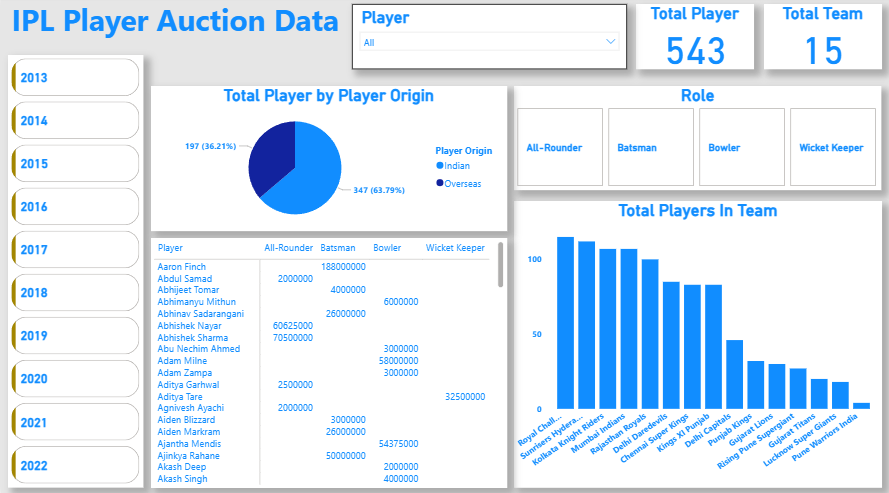

The dashboard page shown, as its layout file describes it:
{"tool":"powerbi","page":{"name":"Page 1","canvas":[1280,720],"ordinal":0},"visuals":[{"type":"textbox","box":[10.1,0,507.3,85.7],"z":0},{"type":"card","title":"Total Player","fields":{"Values":["Count(IPLPlayerAuctionData.Player)"]},"box":[913.8,11.8,169.7,94.1],"z":1000},{"type":"card","title":"Total Team","fields":{"Values":["Count(IPLPlayerAuctionData.Team)"]},"box":[1098.6,11.8,169.7,94.1],"z":2000},{"type":"advancedSlicerVisual","fields":{"Values":["IPLPlayerAuctionData.Role"]},"box":[739.1,129.3,529.1,149.5],"z":3000},{"type":"slicer","fields":{"Values":["IPLPlayerAuctionData.Player"]},"box":[505.6,11.8,396.4,94.1],"z":4000},{"type":"advancedSlicerVisual","fields":{"Values":["IPLPlayerAuctionData.Year"]},"box":[10.1,85.7,194.9,623.2],"z":5000},{"type":"clusteredColumnChart","title":"Total Players In Team","fields":{"Category":["IPLPlayerAuctionData.Team"],"Y":["CountNonNull(IPLPlayerAuctionData.Player)"]},"box":[738.7,295.2,529.9,413.3],"z":6000},{"type":"pieChart","title":"Total Player by Player Origin","fields":{"Category":["IPLPlayerAuctionData.Player Origin"],"Y":["Count(IPLPlayerAuctionData.Player)"]},"box":[216,129.6,512.6,208.8],"z":7000},{"type":"pivotTable","fields":{"Values":["Sum(IPLPlayerAuctionData.Amount)"],"Rows":["IPLPlayerAuctionData.Player"],"Columns":["IPLPlayerAuctionData.Role"]},"box":[216,348.5,512.6,360],"z":8000}]}

Visuals, with their boxes in screenshot pixels (x1, y1, x2, y2), scaled from the page's 1280x720 canvas onto the 889x493 screenshot:
textbox: [7,0,359,59]
"Total Player" card: [635,8,753,73]
"Total Team" card: [763,8,881,73]
advancedSlicerVisual - IPLPlayerAuctionData.Role: [513,89,881,191]
slicer - IPLPlayerAuctionData.Player: [351,8,626,73]
advancedSlicerVisual - IPLPlayerAuctionData.Year: [7,59,142,485]
"Total Players In Team" clusteredColumnChart: [513,202,881,485]
"Total Player by Player Origin" pieChart: [150,89,506,232]
pivotTable - Sum(IPLPlayerAuctionData.Amount) x IPLPlayerAuctionData.Player: [150,239,506,485]
